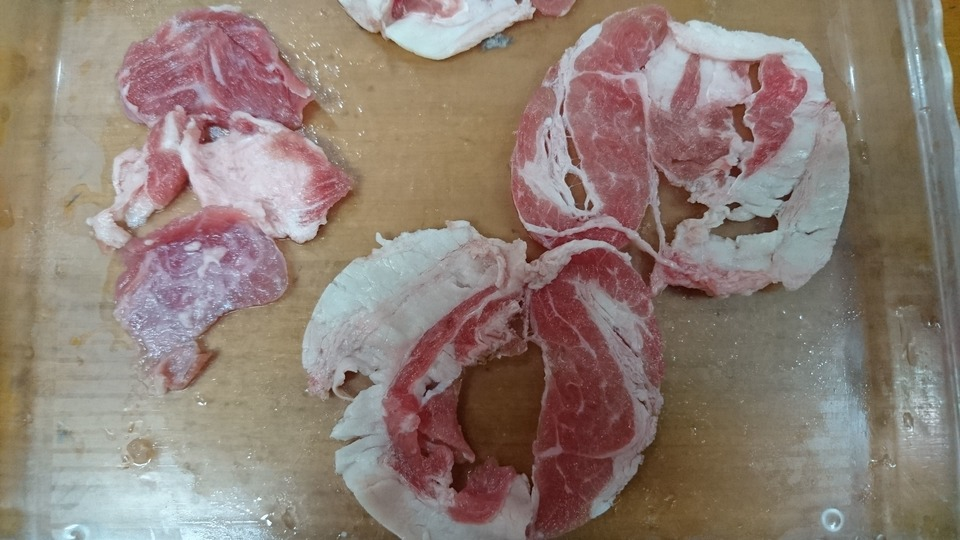restructured meat: (301, 228, 667, 540), (497, 1, 863, 311), (100, 3, 354, 397)
